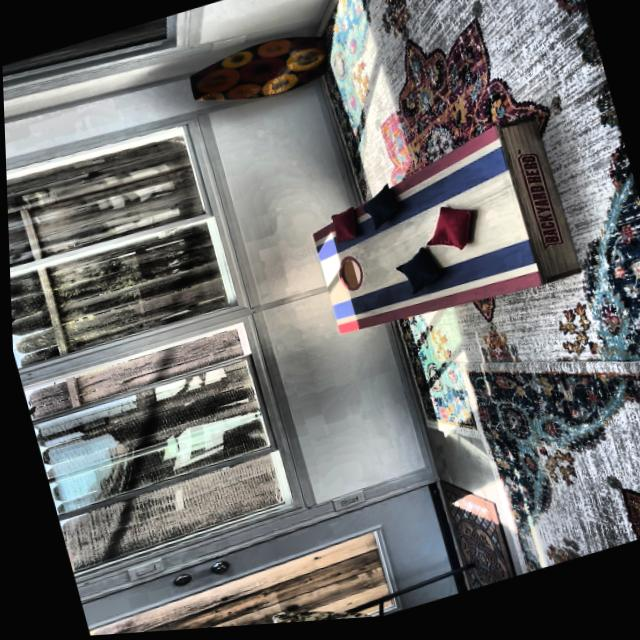blue-bean-bag: (390, 250, 439, 302), (353, 187, 400, 238)
board: (303, 166, 535, 343)
hole: (331, 257, 363, 299)
red-bean-bag: (411, 204, 482, 267), (324, 211, 359, 248)
